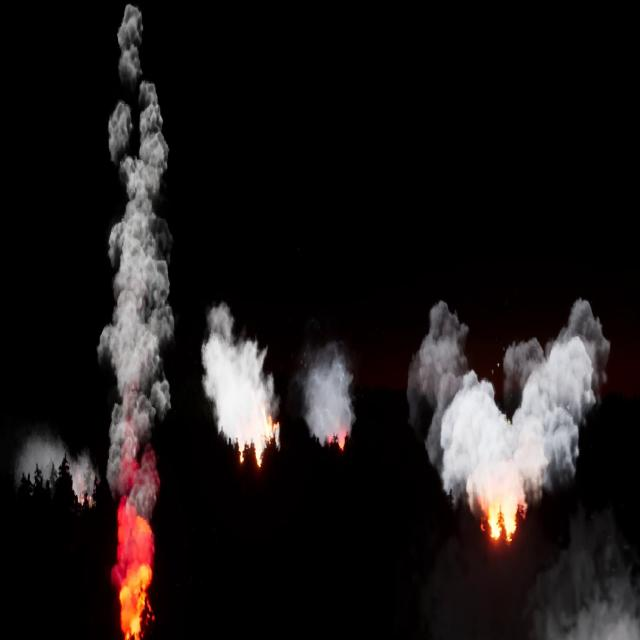fire: (108, 493, 159, 639), (476, 495, 525, 544)
smoke: (406, 301, 610, 510), (100, 1, 174, 541), (201, 302, 283, 462), (545, 541, 639, 639), (13, 435, 96, 510), (299, 349, 355, 447)
